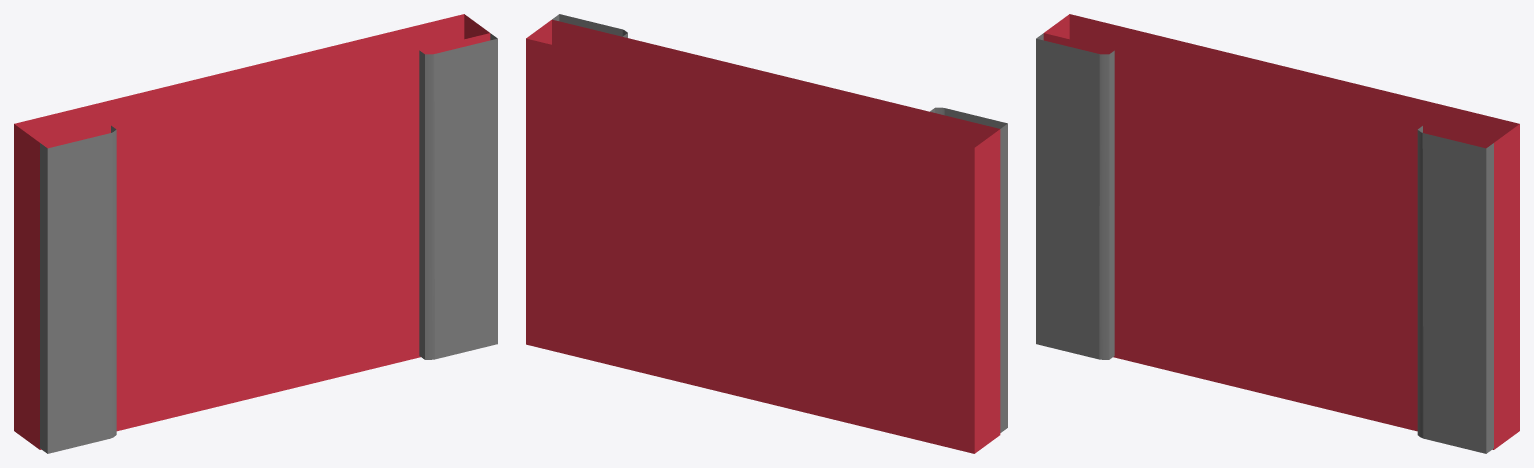
Rendered from wall_Pillars_LO.fbx.
3 renders of one model, left to right at view 1: azimuth 30°, elevation 25°; view 2: azimuth 150°, elevation 25°; view 3: azimuth 330°, elevation 25°, orthographic.
Parts seen in each view (by area): view 1: wall_Pillars_LO; view 2: wall_Pillars_LO; view 3: wall_Pillars_LO.
Part boxes in pixels (left/top/right/bottom): wall_Pillars_LO: left=14, top=14, right=497, bottom=453; wall_Pillars_LO: left=526, top=14, right=1007, bottom=453; wall_Pillars_LO: left=1036, top=14, right=1519, bottom=453.
Size of the model in its own units: 1000 by 652 by 129.
